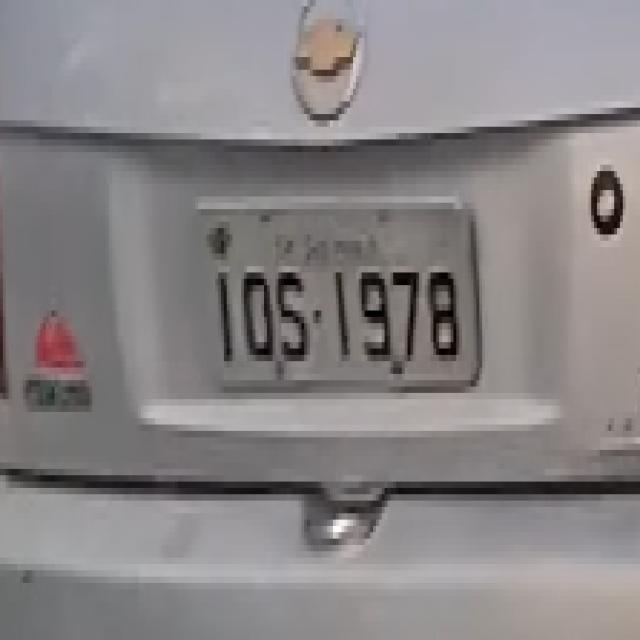Placa_mercosul_carro: (195, 200, 479, 390)
